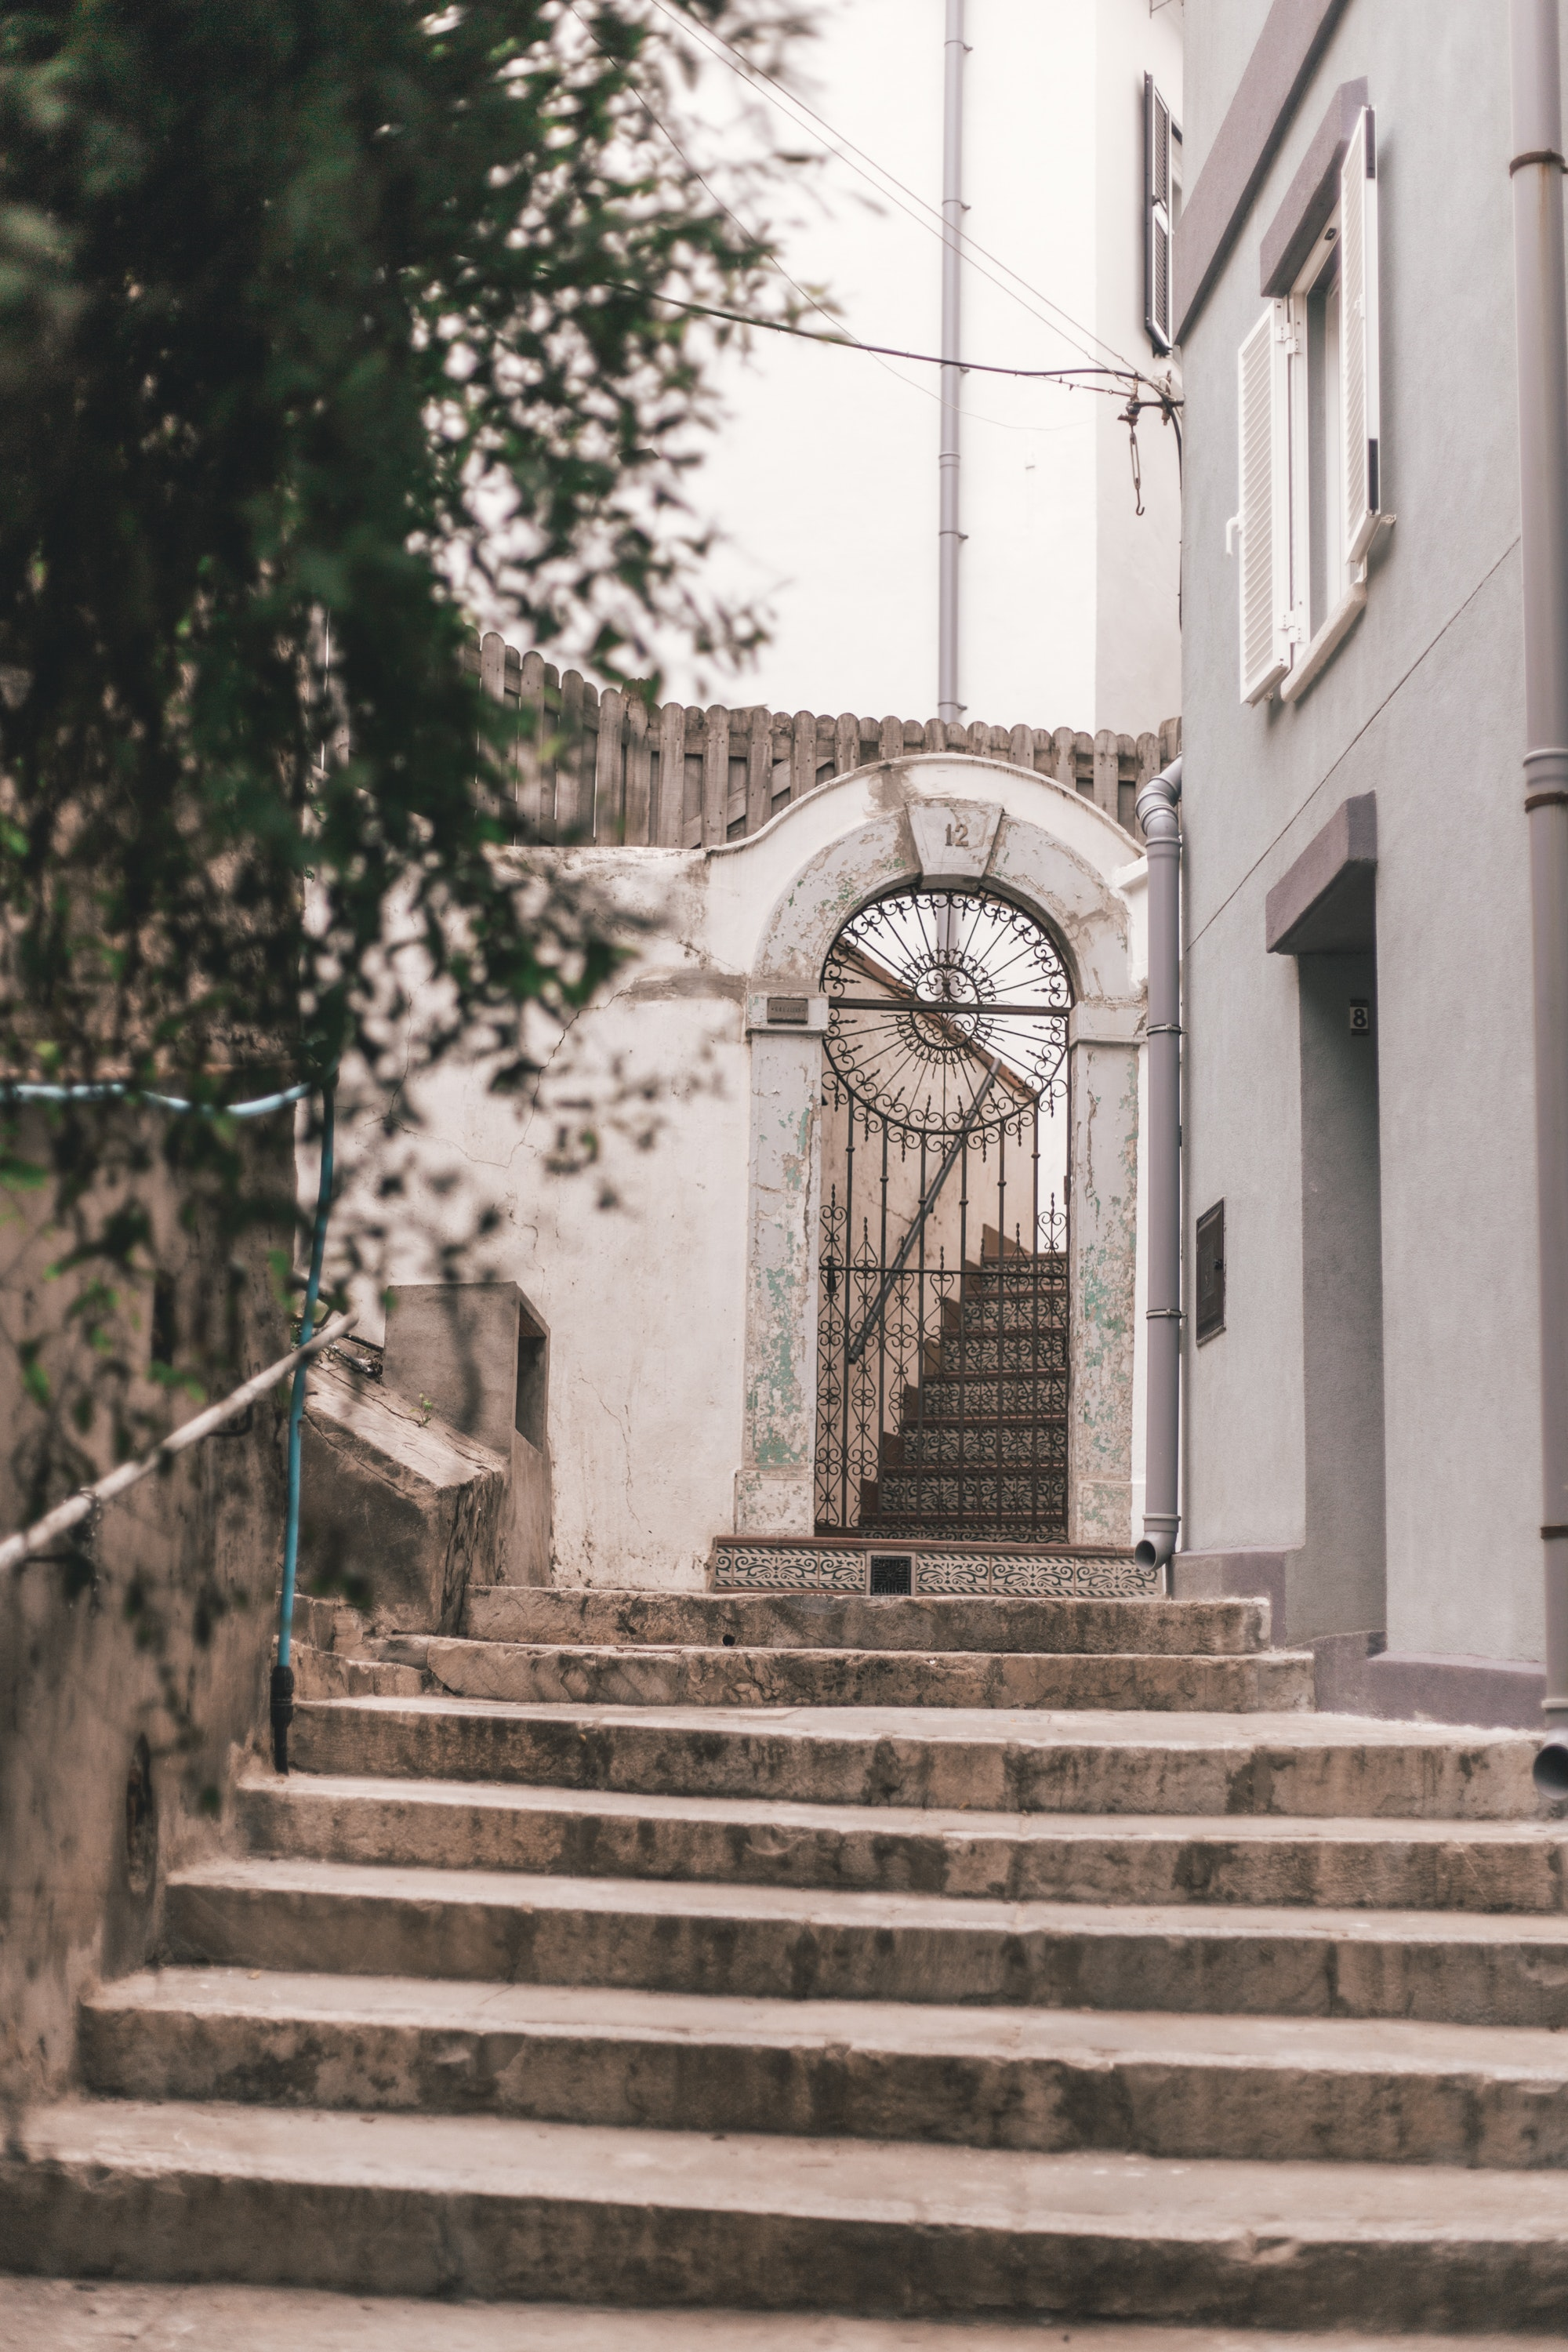upstairs: (285, 1682, 1568, 2352)
